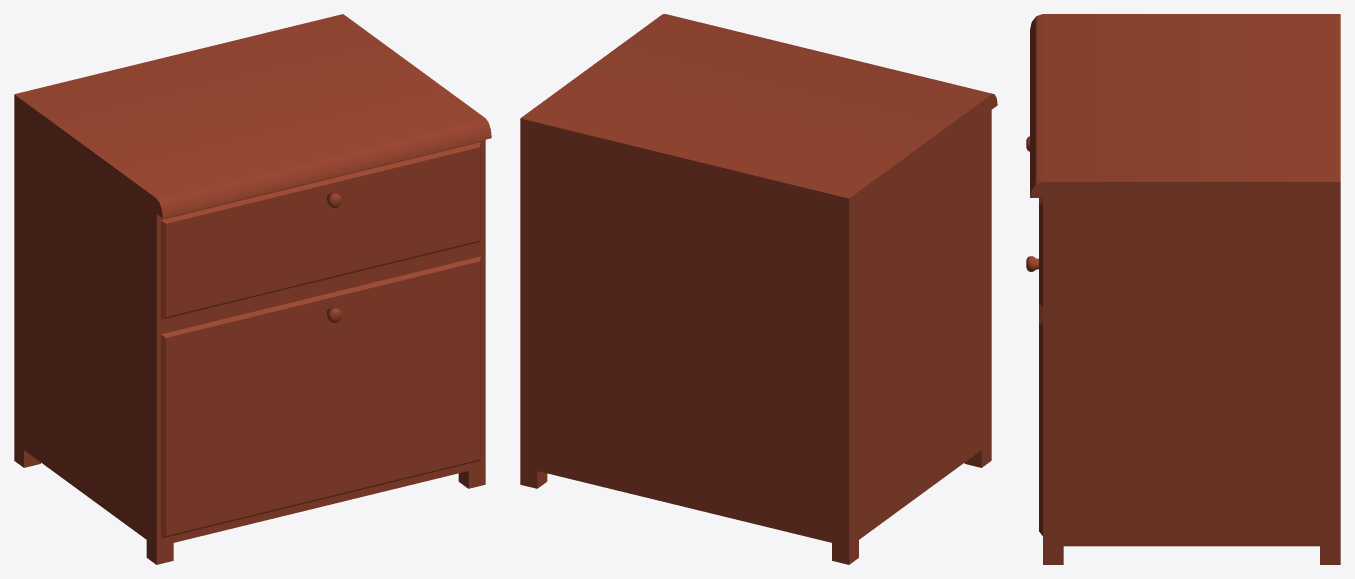
File: .fbx_K_chenschrank_Schubf_cher_0_84.fbx
3 renders of one model, left to right at view 1: azimuth 30°, elevation 25°; view 2: azimuth 150°, elevation 25°; view 3: azimuth 270°, elevation 25°, orthographic. The views are drawn at different scales.
Parts seen in each view (by area): view 1: Küchenschrank Schubfächer 0,84m; view 2: Küchenschrank Schubfächer 0,84m; view 3: Küchenschrank Schubfächer 0,84m.
Boxes of the visible parts, bbox=[...] form: Küchenschrank Schubfächer 0,84m: bbox=[14, 14, 491, 564]; Küchenschrank Schubfächer 0,84m: bbox=[520, 14, 997, 564]; Küchenschrank Schubfächer 0,84m: bbox=[1030, 14, 1340, 564].
Bounding box in the file's own units: 0.8412 × 0.8954 × 0.6655.
